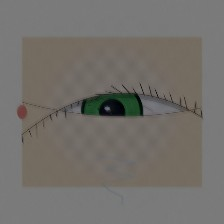foreign_body_visible: (76, 78, 107, 103)
